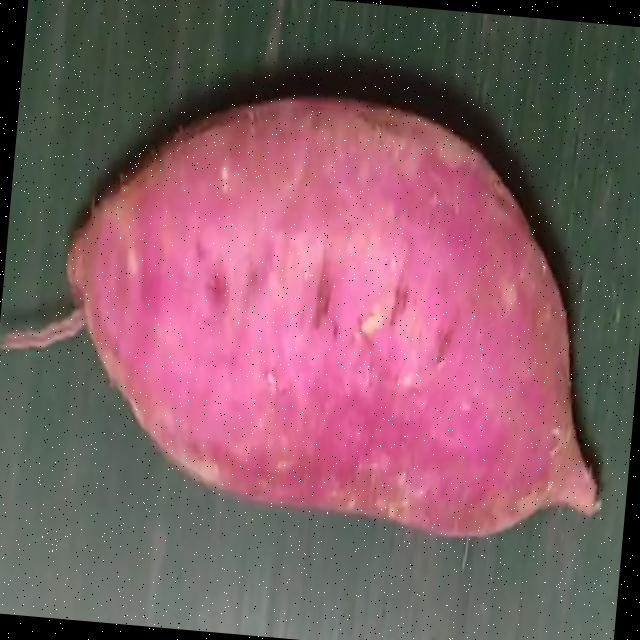Sweet Potato: (62, 99, 599, 538)
